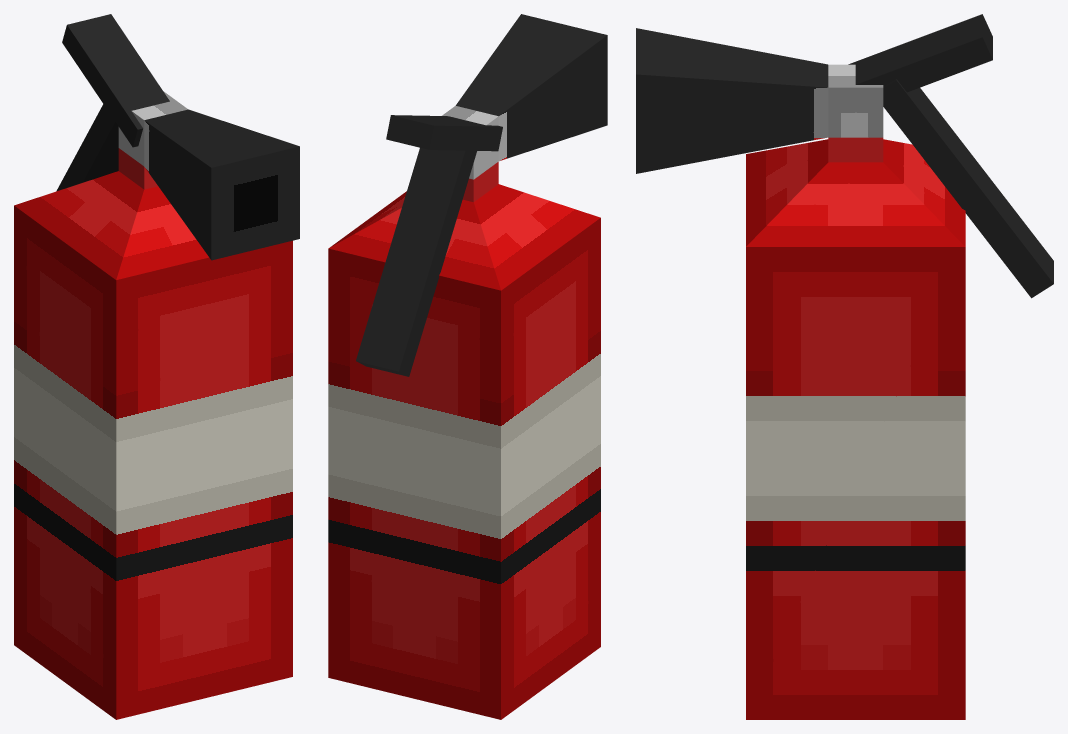
The model's file is extinguisher.dae.
The picture shows the model from 3 angles, left to right: view 1: azimuth 30°, elevation 25°; view 2: azimuth 150°, elevation 25°; view 3: azimuth 270°, elevation 25°; orthographic projection. The views are drawn at different scales.
Parts seen in each view (by area): view 1: cuboid; view 2: cuboid; view 3: cuboid.
Part boxes in pixels (left/top/right/bottom): cuboid: left=14, top=14, right=299, bottom=719; cuboid: left=328, top=14, right=607, bottom=719; cuboid: left=636, top=14, right=1053, bottom=719.
Bounding box in the file's own units: 0.5 × 1.62 × 0.9511.
1 material, 1 textured.
